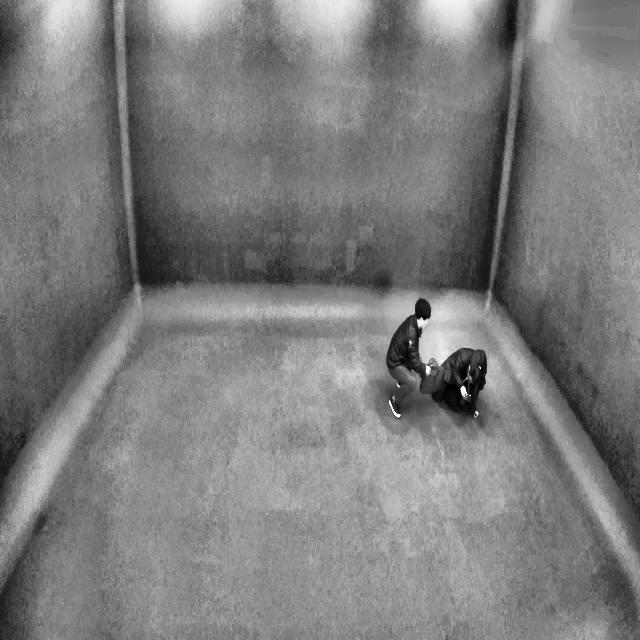assult: (378, 282, 500, 431), (422, 341, 495, 421)
